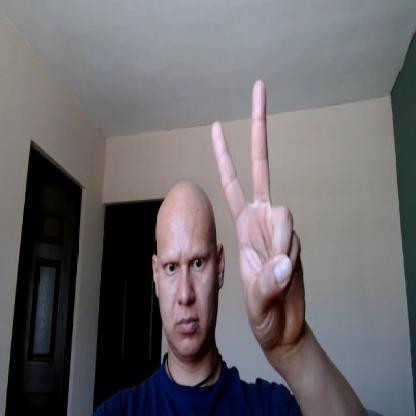V: (210, 77, 306, 346)
